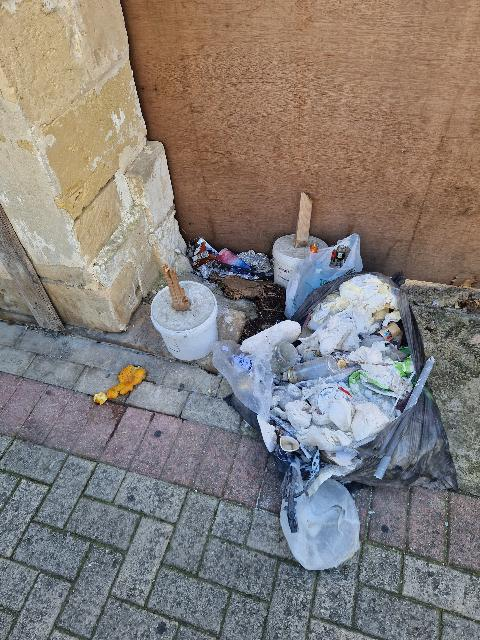Organic -White-: (280, 479, 360, 570)
Other: (212, 234, 427, 466), (151, 265, 218, 361), (272, 192, 327, 288)
Recyclable -Grey-: (345, 388, 458, 490)
